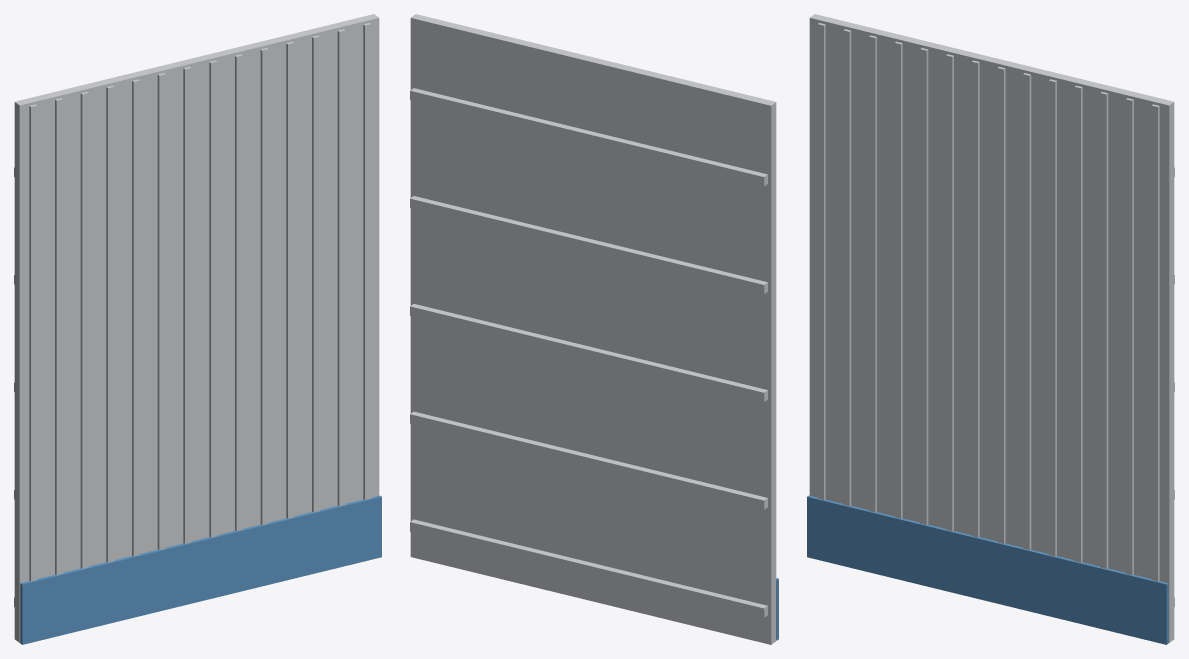
File: hall-wall-cladding-bay.glb
The picture shows the model from 3 angles, left to right: view 1: azimuth 30°, elevation 25°; view 2: azimuth 150°, elevation 25°; view 3: azimuth 330°, elevation 25°; orthographic projection.
Visible parts, largest first — view 1: hall-wall-cladding-bay; view 2: hall-wall-cladding-bay; view 3: hall-wall-cladding-bay.
Part boxes in pixels (box(x1,y1,x2,y2)): hall-wall-cladding-bay: box(14, 14, 381, 644); hall-wall-cladding-bay: box(410, 14, 778, 644); hall-wall-cladding-bay: box(807, 14, 1174, 644).
Size of the model in its own units: 5.6 by 8 by 0.31.
